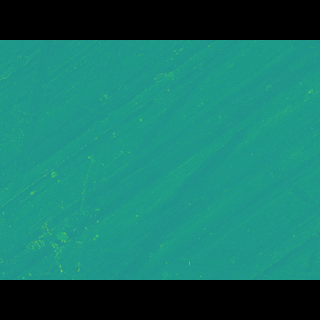Loch: (104, 134, 320, 251), (0, 69, 57, 249)
